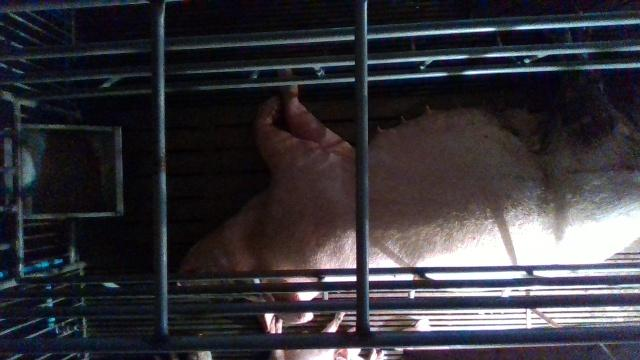piglet: (268, 312, 362, 360)
sow-sleep-lactate: (175, 69, 640, 330)
